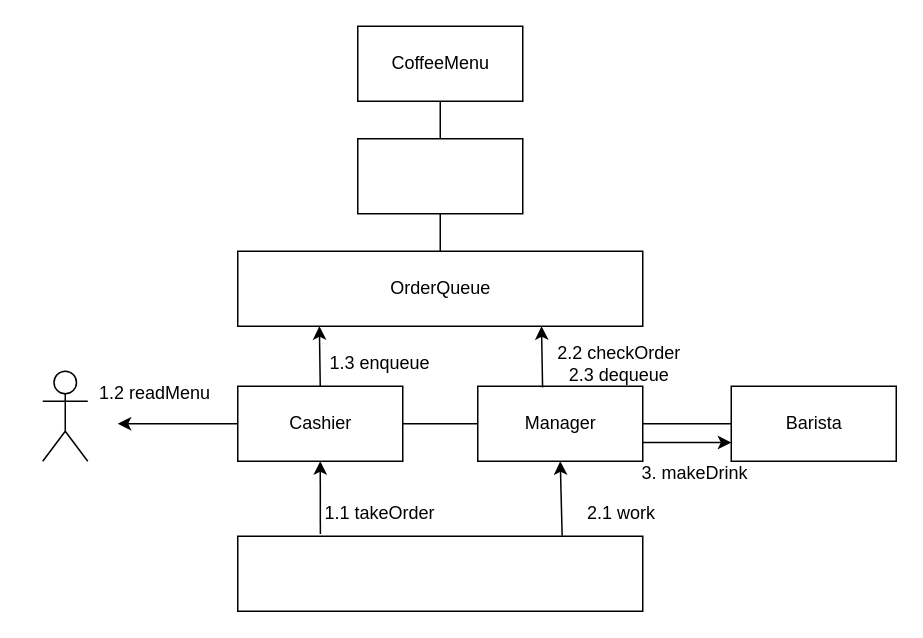
Some shapes in this 923 by 638 pixel diagram are drawn without their labels. The centre of each missing label's shape, as x and y in pixels:
Controller: the point at 439,573
Customer: the point at 64,415
Order: the point at 439,175
